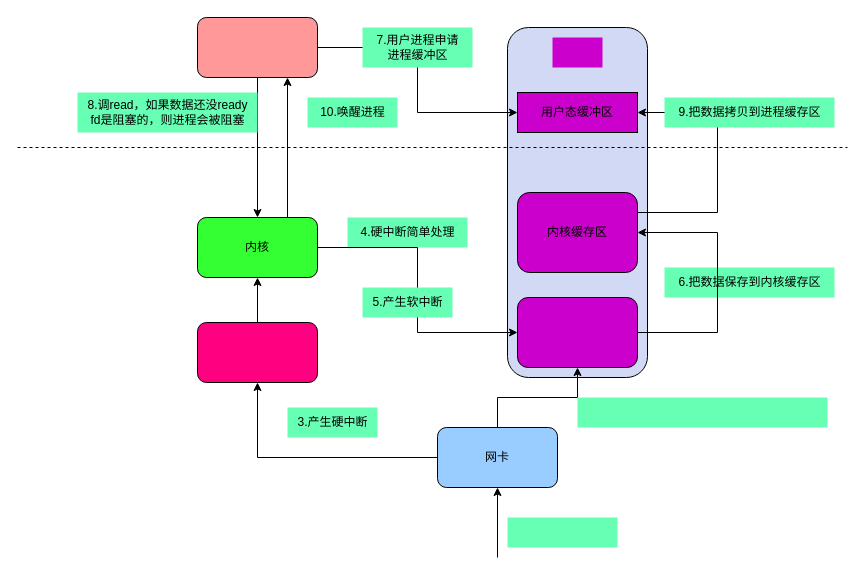
This 866x583 diagram has some shape labels left out. Each missing label, with the centre of its shape:
1.收到网络数据: the point at 562,532
2.DMA（直接内存存取，写入Ring Buffer）: the point at 702,412
CPU: the point at 257,352
Ring Buffer: the point at 577,332
内存: the point at 577,52
用户进程: the point at 257,47
